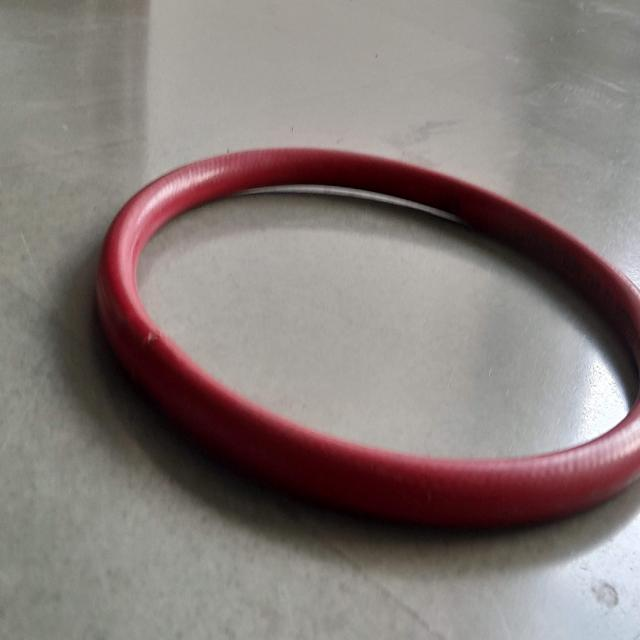daire: (101, 145, 640, 527)
